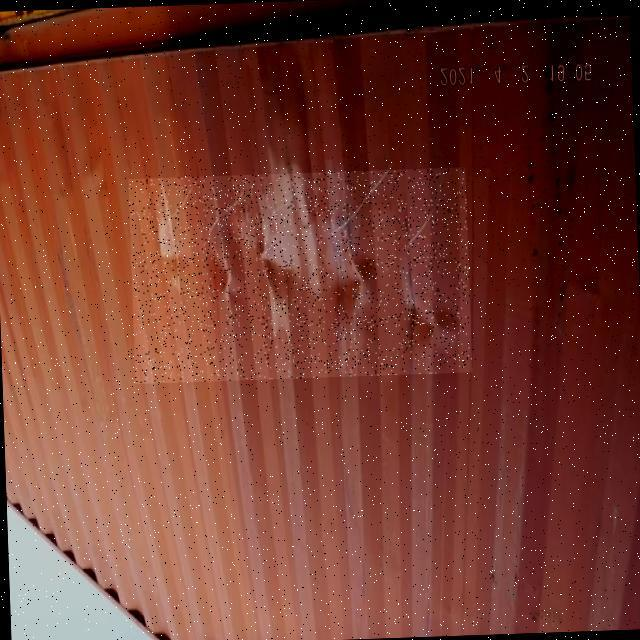dent: (129, 168, 473, 385)
